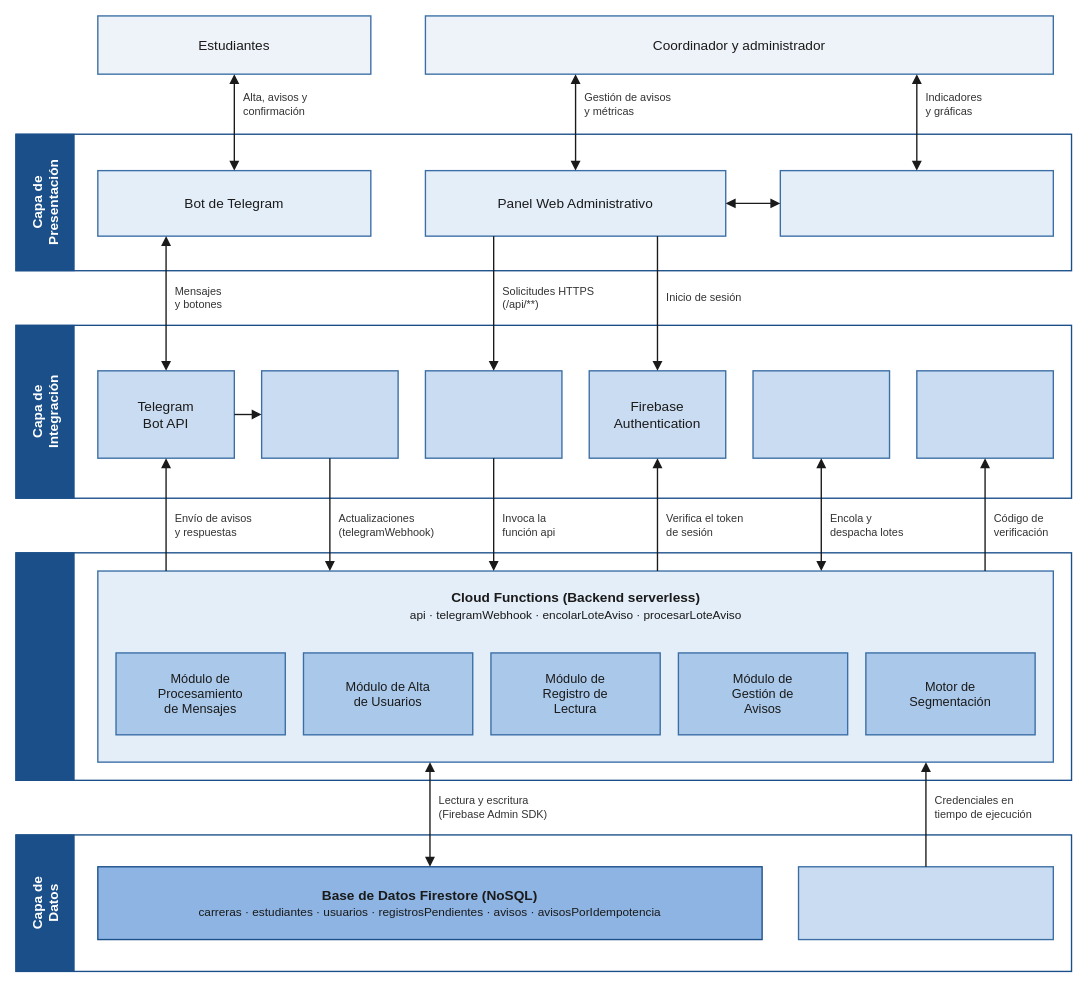
Image size: 1088x988. Some labels were removed from this diagram. The shapes that lost their labels are listed below. From the top down, each one's box as (x1, y1, x2, y2) in pixels, then its label:
(779, 170, 1054, 236): Panel de Visualización (Dashboard)
(261, 370, 398, 458): Webhook de Telegram
(424, 370, 562, 458): Firebase Hosting (rewrites)
(752, 370, 890, 458): Google Cloud Tasks (lotes de envío)
(916, 370, 1054, 458): Resend (servicio de correo)
(15, 552, 74, 780): Capa de Lógica de Negocio
(797, 866, 1054, 940): Secret Manager token del bot, secreto del webhook y clave de Resend
